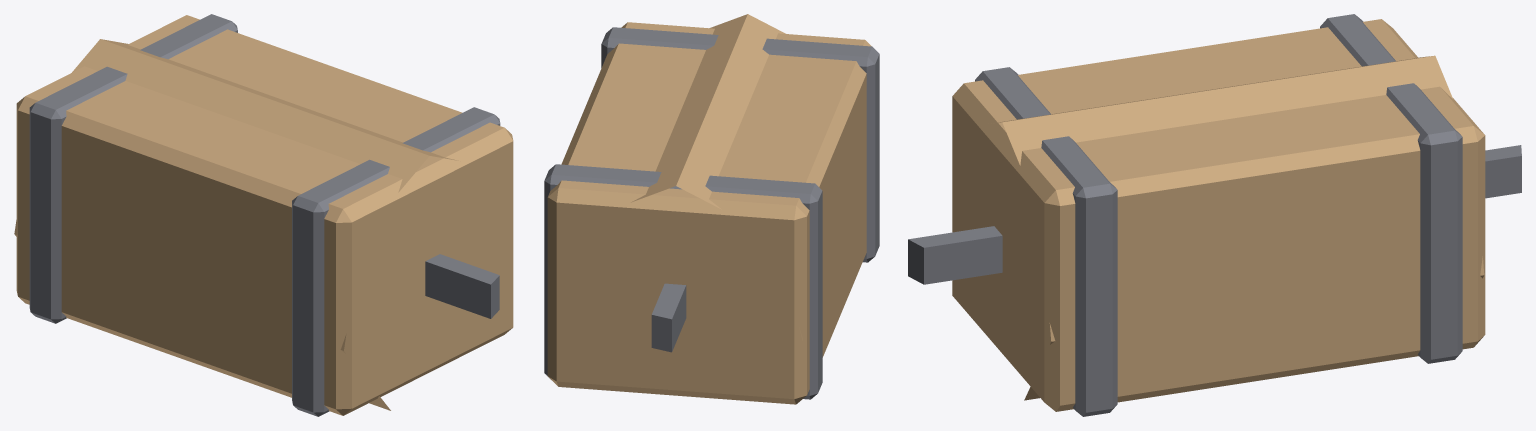
The model's file is town_treasure_chest.glb.
3 views of the same model, side by side, from view 1: azimuth 30°, elevation 25°; view 2: azimuth 150°, elevation 25°; view 3: azimuth 270°, elevation 25° (orthographic). The views are drawn at different scales.
Parts seen in each view (by area): view 1: world; view 2: world; view 3: world.
Part boxes in pixels (x1=…): world: x1=14, y1=14, x2=513, y2=416; world: x1=544, y1=14, x2=879, y2=404; world: x1=908, y1=14, x2=1521, y2=416.
Bounding box in the file's own units: 1.39 × 0.9094 × 2.
